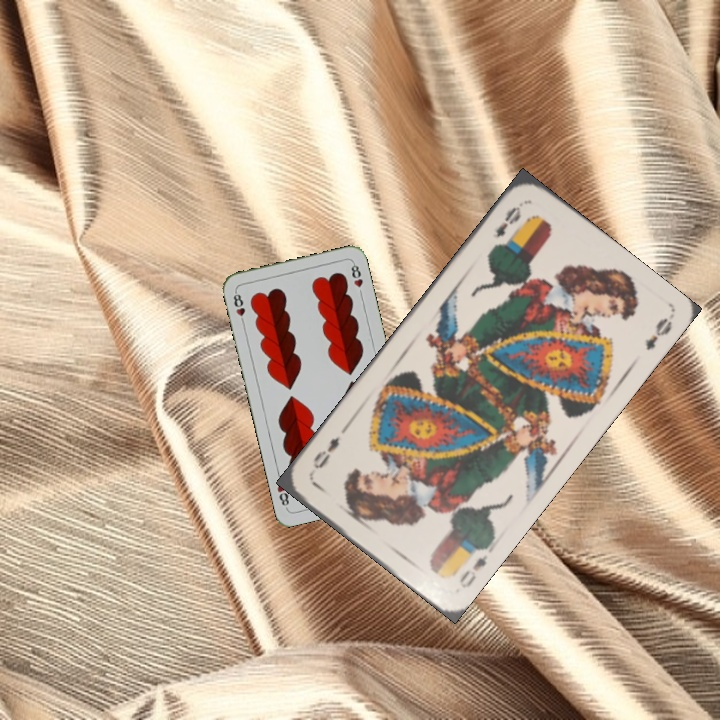EO: (488, 199, 526, 251), (455, 550, 491, 591)
H8: (229, 287, 248, 327)
